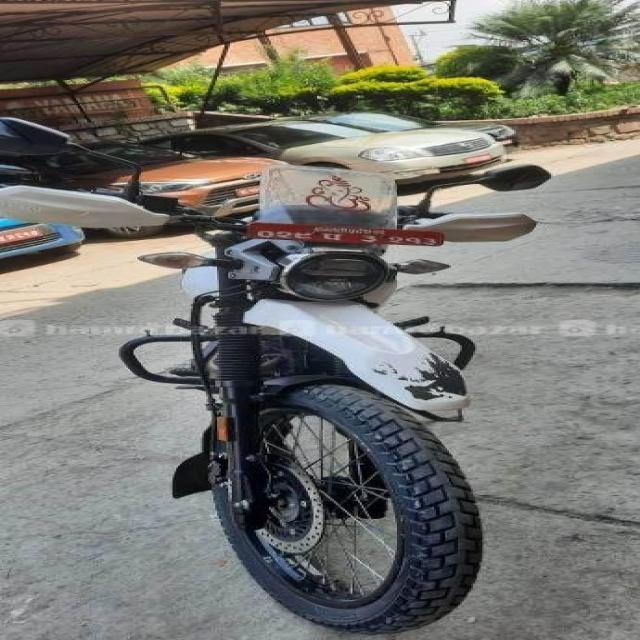License-plate: (241, 220, 453, 250), (0, 225, 72, 243), (454, 153, 502, 164), (238, 185, 260, 196)
